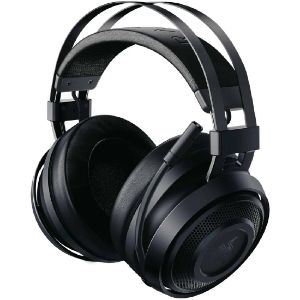headset: (27, 1, 273, 298)
